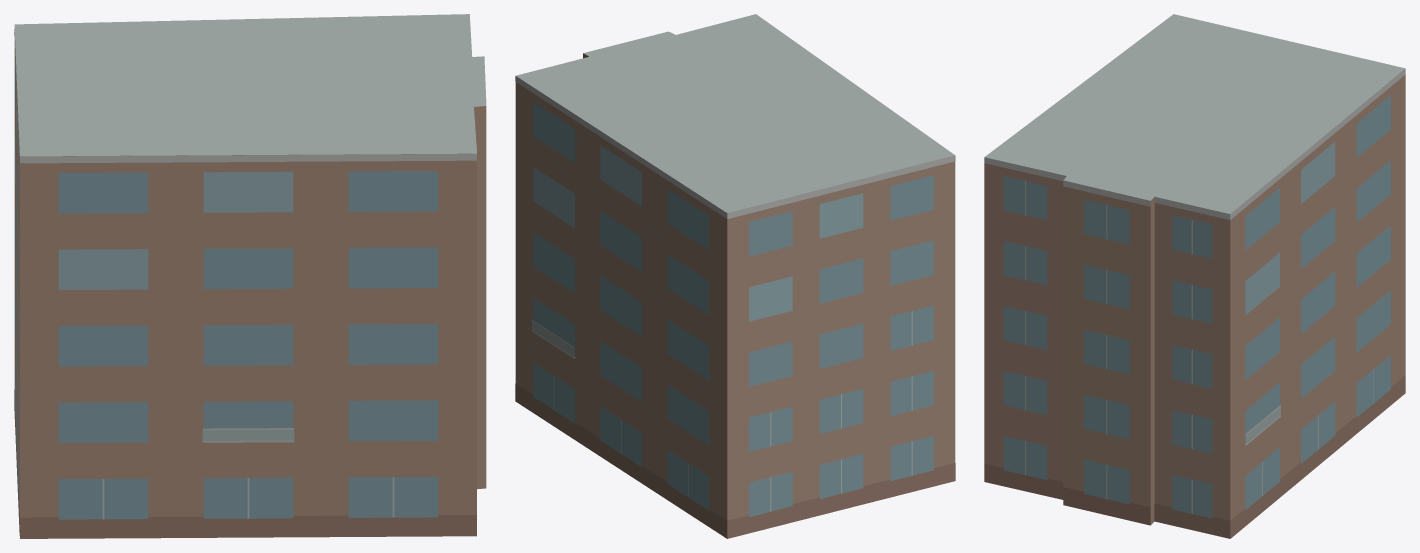
The model's file is survey-upis-33027949.glb.
The picture shows the model from 3 angles, left to right: view 1: azimuth 30°, elevation 25°; view 2: azimuth 150°, elevation 25°; view 3: azimuth 270°, elevation 25°; orthographic projection. The views are drawn at different scales.
Parts seen in each view (by area): view 1: survey-upis-33027949.tmp; view 2: survey-upis-33027949.tmp; view 3: survey-upis-33027949.tmp.
Boxes of the visible parts, x1,y1,x2,y2 form: survey-upis-33027949.tmp: (14, 14, 486, 538); survey-upis-33027949.tmp: (515, 14, 955, 538); survey-upis-33027949.tmp: (984, 14, 1405, 538).
Bounding box in the file's own units: 17.59 × 13.3 × 15.65.
